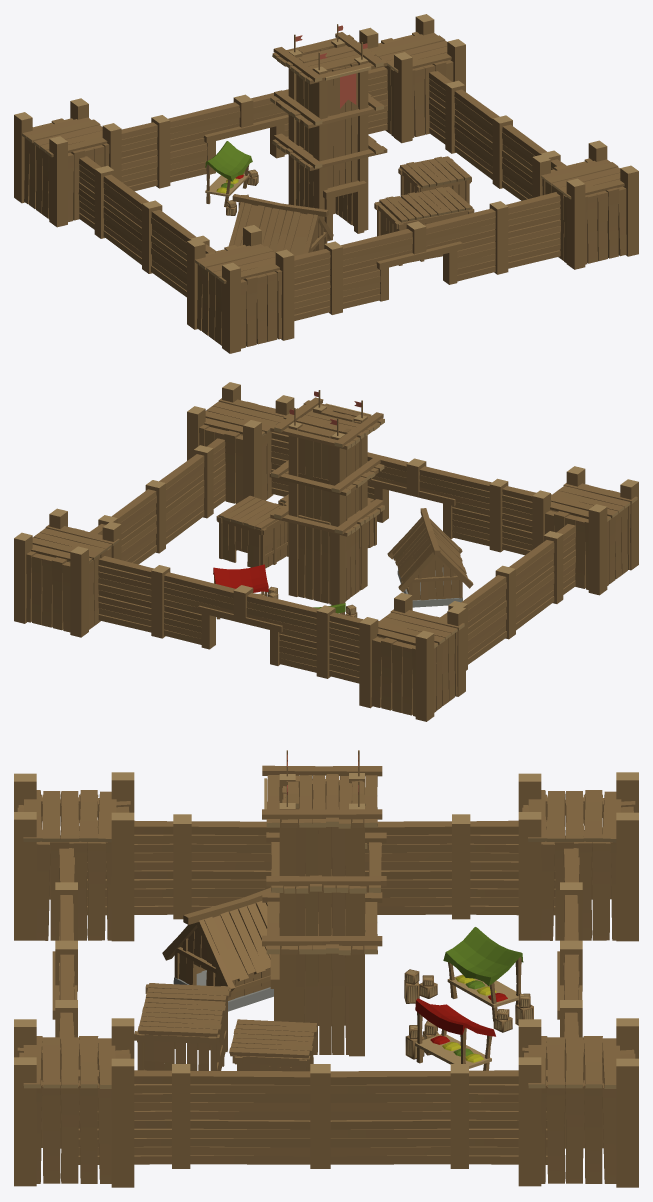
The model's file is clanhold-MC-IV.glb.
3 renders of one model, top to bottom at view 1: azimuth 30°, elevation 25°; view 2: azimuth 150°, elevation 25°; view 3: azimuth 270°, elevation 25°, orthographic. The views are drawn at different scales.
Visible parts, largest first — view 1: WallTowers_Door_FirstAge.001, WallTowers_Door_FirstAge, WatchTower_FirstAge_Level3, Wall_FirstAge.001, Wall_FirstAge, Houses_FirstAge_3_Level3, Houses_FirstAge_1_Level3, Market_FirstAge_Level1; view 2: WallTowers_Door_FirstAge, WallTowers_Door_FirstAge.001, WatchTower_FirstAge_Level3, Wall_FirstAge.001, Wall_FirstAge, Houses_FirstAge_1_Level3, Houses_FirstAge_3_Level3, Market_FirstAge_Level1; view 3: WallTowers_Door_FirstAge, WallTowers_Door_FirstAge.001, Wall_FirstAge, WatchTower_FirstAge_Level3, Wall_FirstAge.001, Houses_FirstAge_3_Level3, Market_FirstAge_Level1, Houses_FirstAge_1_Level3.
Part boxes in pixels (x1=…): WallTowers_Door_FirstAge.001: x1=187, y1=140, x2=638, y2=353; WallTowers_Door_FirstAge: x1=14, y1=14, x2=465, y2=227; WatchTower_FirstAge_Level3: x1=270, y1=24, x2=387, y2=241; Wall_FirstAge.001: x1=78, y1=156, x2=215, y2=297; Wall_FirstAge: x1=429, y1=71, x2=566, y2=200; Houses_FirstAge_3_Level3: x1=374, y1=156, x2=474, y2=265; Houses_FirstAge_1_Level3: x1=228, y1=194, x2=333, y2=255; Market_FirstAge_Level1: x1=205, y1=141, x2=258, y2=215; WallTowers_Door_FirstAge: x1=14, y1=508, x2=465, y2=721; WallTowers_Door_FirstAge.001: x1=187, y1=382, x2=638, y2=595; WatchTower_FirstAge_Level3: x1=269, y1=390, x2=384, y2=605; Wall_FirstAge.001: x1=440, y1=516, x2=584, y2=670; Wall_FirstAge: x1=68, y1=431, x2=242, y2=564; Houses_FirstAge_1_Level3: x1=387, y1=508, x2=473, y2=607; Houses_FirstAge_3_Level3: x1=216, y1=494, x2=376, y2=568; Market_FirstAge_Level1: x1=213, y1=564, x2=357, y2=619; WallTowers_Door_FirstAge: x1=518, y1=772, x2=638, y2=1187; WallTowers_Door_FirstAge.001: x1=14, y1=772, x2=134, y2=1187; Wall_FirstAge: x1=78, y1=1064, x2=547, y2=1168; WatchTower_FirstAge_Level3: x1=262, y1=750, x2=386, y2=1056; Wall_FirstAge.001: x1=79, y1=814, x2=555, y2=919; Houses_FirstAge_3_Level3: x1=134, y1=983, x2=317, y2=1071; Market_FirstAge_Level1: x1=404, y1=927, x2=533, y2=1070; Houses_FirstAge_1_Level3: x1=162, y1=887, x2=273, y2=1011.
Size of the model in its own units: 5.52 by 2.41 by 4.95.
